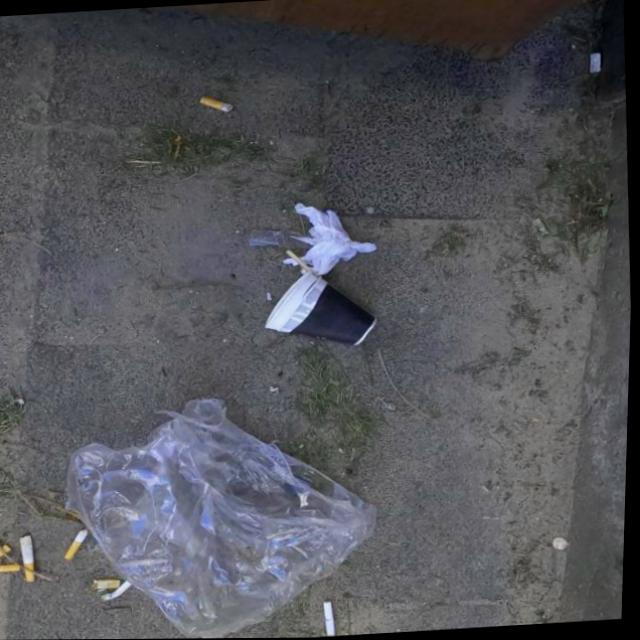Cup: (258, 267, 385, 353)
Paper: (281, 198, 383, 279)
